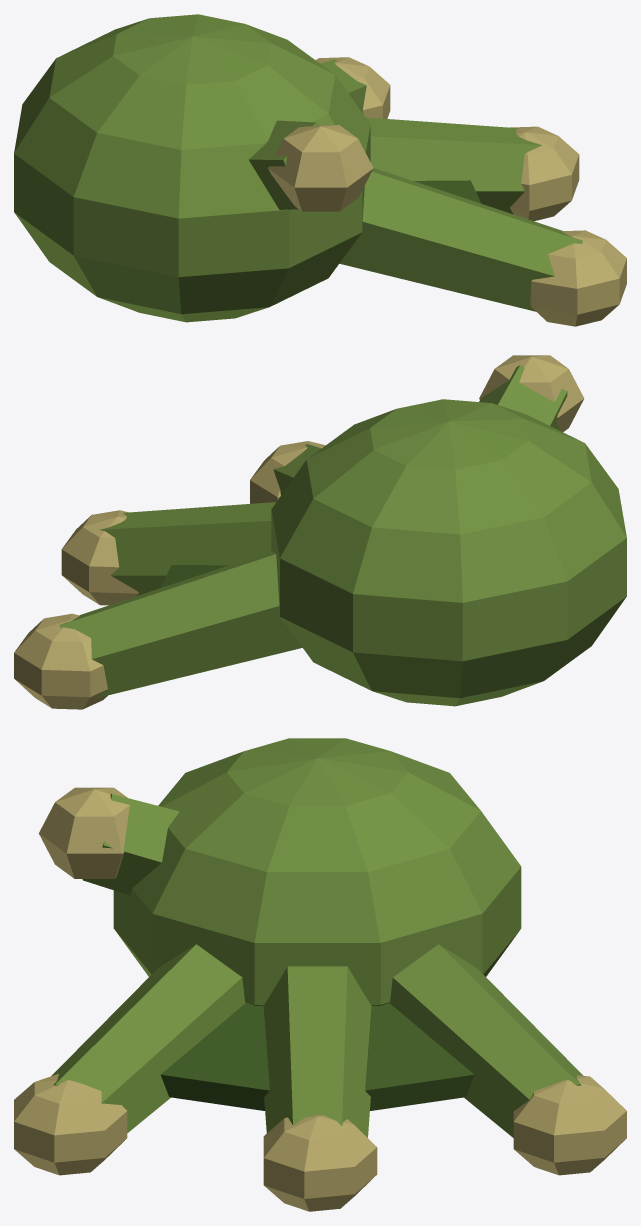
Rendered from pondkin_hand_l.glb.
3 renders of one model, top to bottom at view 1: azimuth 30°, elevation 25°; view 2: azimuth 150°, elevation 25°; view 3: azimuth 270°, elevation 25°, orthographic. The views are drawn at different scales.
Parts seen in each view (by area): view 1: pondkin_hand_l; view 2: pondkin_hand_l; view 3: pondkin_hand_l.
Part boxes in pixels (x1=…): pondkin_hand_l: x1=14, y1=14, x2=626, y2=326; pondkin_hand_l: x1=14, y1=355, x2=626, y2=709; pondkin_hand_l: x1=14, y1=738, x2=626, y2=1211.
Bounding box in the file's own units: 0.4626 × 0.22 × 0.4397.
